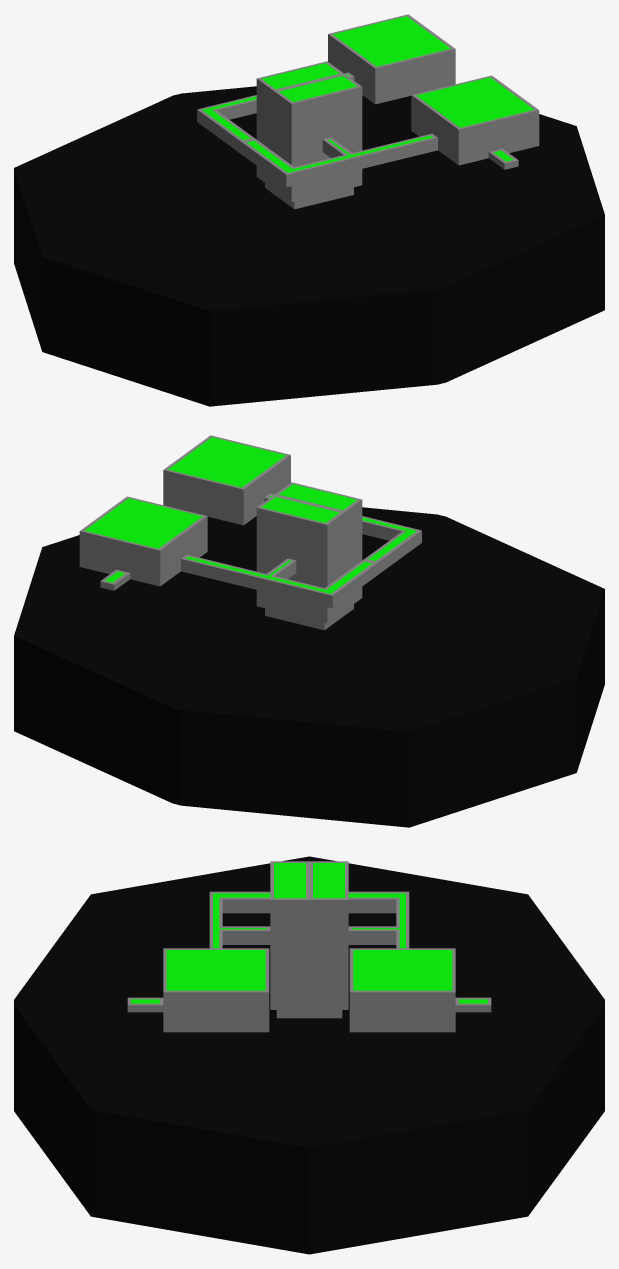
File: SecondLevel.fbx
The picture shows the model from 3 angles, top to bottom: view 1: azimuth 30°, elevation 25°; view 2: azimuth 150°, elevation 25°; view 3: azimuth 270°, elevation 25°; orthographic projection. The views are drawn at different scales.
Visible parts, largest first — view 1: SecondLevel_Remastered; view 2: SecondLevel_Remastered; view 3: SecondLevel_Remastered.
Boxes of the visible parts, x1,y1,x2,y2 form: SecondLevel_Remastered: (14,14,604,406); SecondLevel_Remastered: (14,435,604,827); SecondLevel_Remastered: (14,856,604,1254).
Bounding box in the file's own units: 31808 × 11613 × 27264.
